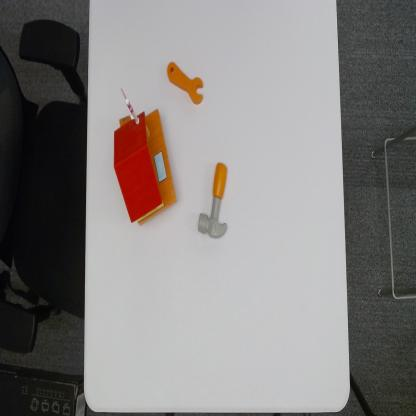Hammer: (197, 161, 229, 241)
House: (112, 84, 179, 228)
Screwdriver: (167, 58, 205, 108)
